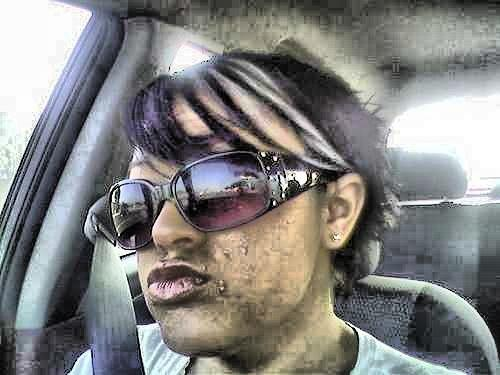seatbelt: (81, 204, 154, 352)
